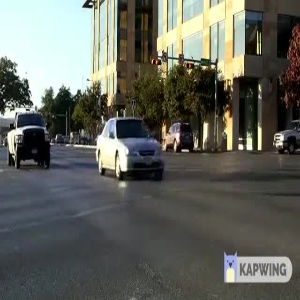car: (89, 112, 171, 181)
suv: (160, 121, 197, 156)
truck: (1, 106, 61, 171)
